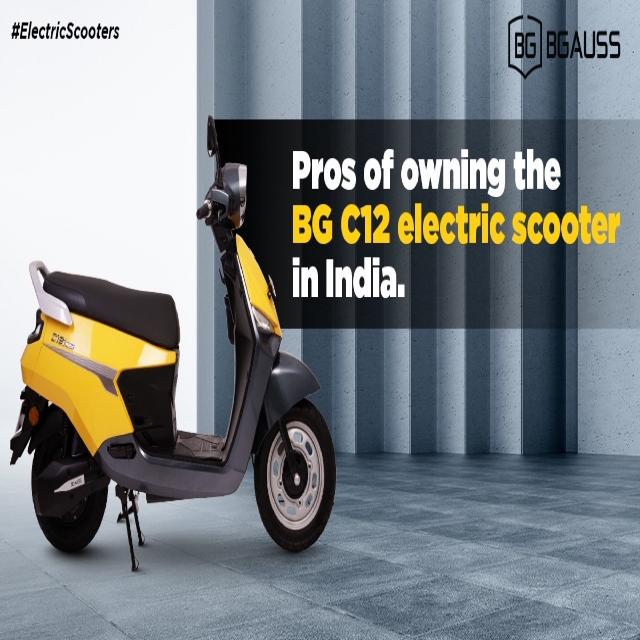motorcycle: (11, 120, 336, 553)
